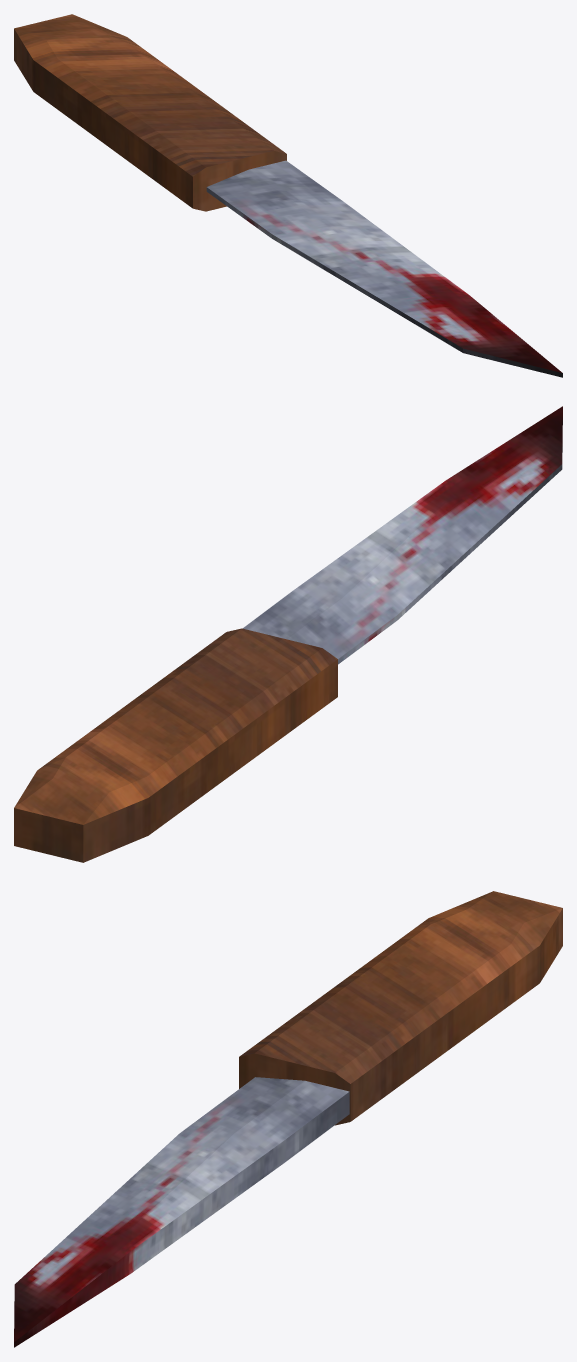
Rendered from knife.fbx.
3 views of the same model, one above another, from view 1: azimuth 30°, elevation 25°; view 2: azimuth 150°, elevation 25°; view 3: azimuth 330°, elevation 25° (orthographic). The views are drawn at different scales.
Visible parts, largest first — view 1: knife; view 2: knife; view 3: knife.
Part boxes in pixels (box(x1,y1,x2,y2)): knife: box(14, 14, 562, 377); knife: box(14, 406, 562, 862); knife: box(14, 891, 562, 1347).
Bounding box in the file's own units: 20.55 × 9.23 × 180.
